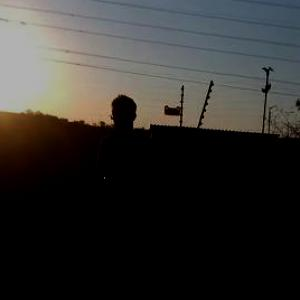follow: (92, 87, 162, 299)
